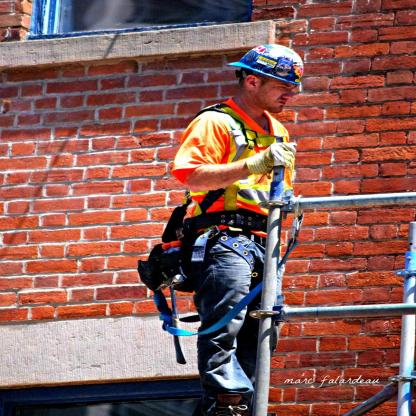Helmet: (236, 40, 305, 96)
